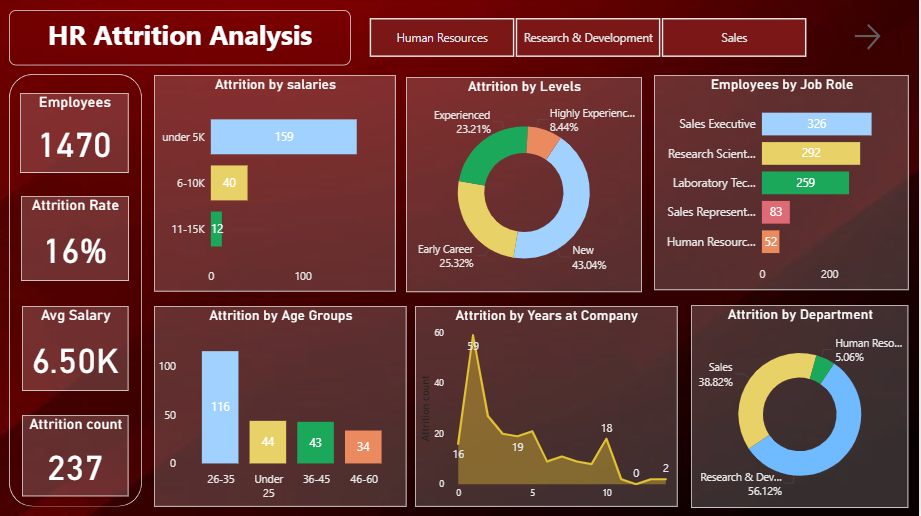

The page's visual inventory and layout, read from the dashboard file:
{"tool":"powerbi","page":{"name":"Page 1","canvas":[1280,720],"ordinal":0},"visuals":[{"type":"textbox","box":[13.4,16.8,475.4,77.3],"z":0},{"type":"card","title":"Employees","fields":{"Values":["HR DATA MODIFIED.Total Employees"]},"box":[28.6,132.7,151.2,110.9],"z":1000},{"type":"card","title":"Attrition count","fields":{"Values":["HR DATA MODIFIED.Attrition count"]},"box":[31.9,579.5,147.8,112.5],"z":2000},{"type":"card","title":"Attrition Rate","fields":{"Values":["HR DATA MODIFIED.Attrition rate"]},"box":[30.2,275.5,149.5,117.6],"z":3000},{"type":"card","title":"Avg Salary","fields":{"Values":["HR DATA MODIFIED.Avg Sal"]},"box":[31.9,428.3,147.8,117.6],"z":4000},{"type":"donutChart","title":"Attrition by Department","fields":{"Category":["HR DATA MODIFIED.Department"],"Y":["HR DATA MODIFIED.Attrition count"]},"box":[962.5,426.7,302.4,282.2],"z":5000},{"type":"barChart","title":"Attrition by salaries","fields":{"Y":["HR DATA MODIFIED.Attrition count"],"Category":["HR DATA MODIFIED.Salaries"]},"box":[215,107.5,336,300.7],"z":6000},{"type":"columnChart","title":"Attrition by Age Groups","fields":{"Y":["HR DATA MODIFIED.Attrition count"],"Category":["HR DATA MODIFIED.Age Groups"]},"box":[215,428.3,351.1,278.8],"z":7000},{"type":"donutChart","title":"Attrition by Levels","fields":{"Y":["HR DATA MODIFIED.Attrition count"],"Category":["HR DATA MODIFIED.Experience Level"]},"box":[566.1,109.2,327.6,299],"z":8000},{"type":"slicer","fields":{"Values":["HR DATA MODIFIED.Department"]},"box":[489.3,20.8,657.5,68.1],"z":9000},{"type":"barChart","title":"Employees by Job Role","fields":{"Category":["HR DATA MODIFIED.JobRole"],"Y":["Sum(HR DATA MODIFIED.EmployeeCount)"]},"box":[910.4,107.5,354.4,299],"z":10000},{"type":"lineChart","title":"Attrition by Years at Company","fields":{"Y":["HR DATA MODIFIED.Attrition count"],"Category":["HR DATA MODIFIED.YearsAtCompany"]},"box":[577.8,428.3,364.5,278.8],"z":11000},{"type":"shape","box":[13.4,105.8,184.8,601.4],"z":12000},{"type":"actionButton","box":[1159.2,20.8,120.9,75.1],"z":12001}]}

Visuals, with their boxes in screenshot pixels (x1, y1, x2, y2), scaled from the page's 1280x720 canvas onto the 921x516 screenshot:
textbox: 10:12:352:67
"Employees" card: 21:95:129:175
"Attrition count" card: 23:415:129:496
"Attrition Rate" card: 22:197:129:282
"Avg Salary" card: 23:307:129:391
"Attrition by Department" donutChart: 693:306:910:508
"Attrition by salaries" barChart: 155:77:396:293
"Attrition by Age Groups" columnChart: 155:307:407:507
"Attrition by Levels" donutChart: 407:78:643:293
slicer - HR DATA MODIFIED.Department: 352:15:825:64
"Employees by Job Role" barChart: 655:77:910:291
"Attrition by Years at Company" lineChart: 416:307:678:507
shape: 10:76:143:507
actionButton: 834:15:920:69
